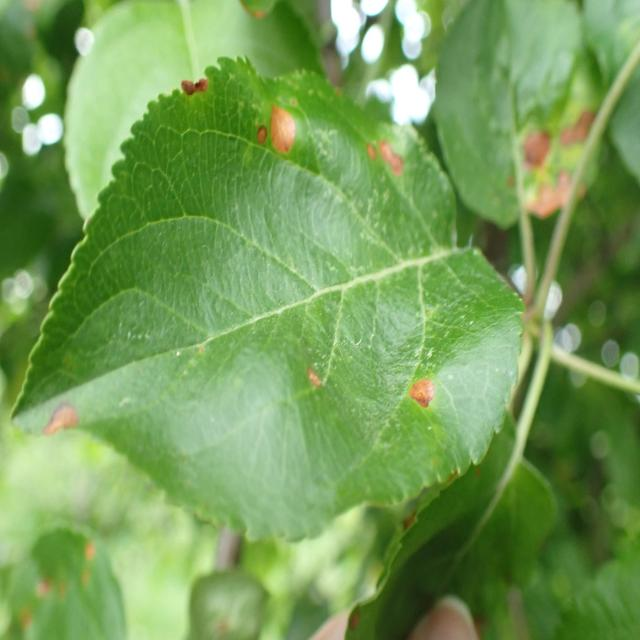Black Rot: (504, 82, 595, 241), (158, 61, 231, 126), (354, 112, 411, 193), (31, 395, 105, 442), (257, 81, 304, 151), (293, 353, 337, 417), (402, 368, 446, 430), (248, 94, 271, 156)
